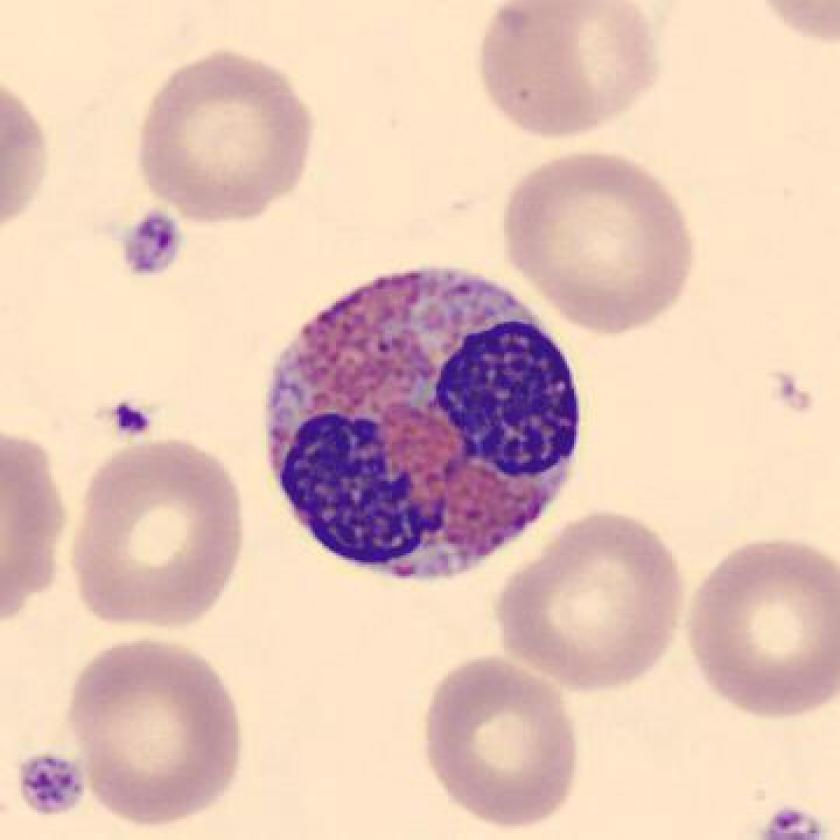eosinophil: (248, 256, 596, 601)
